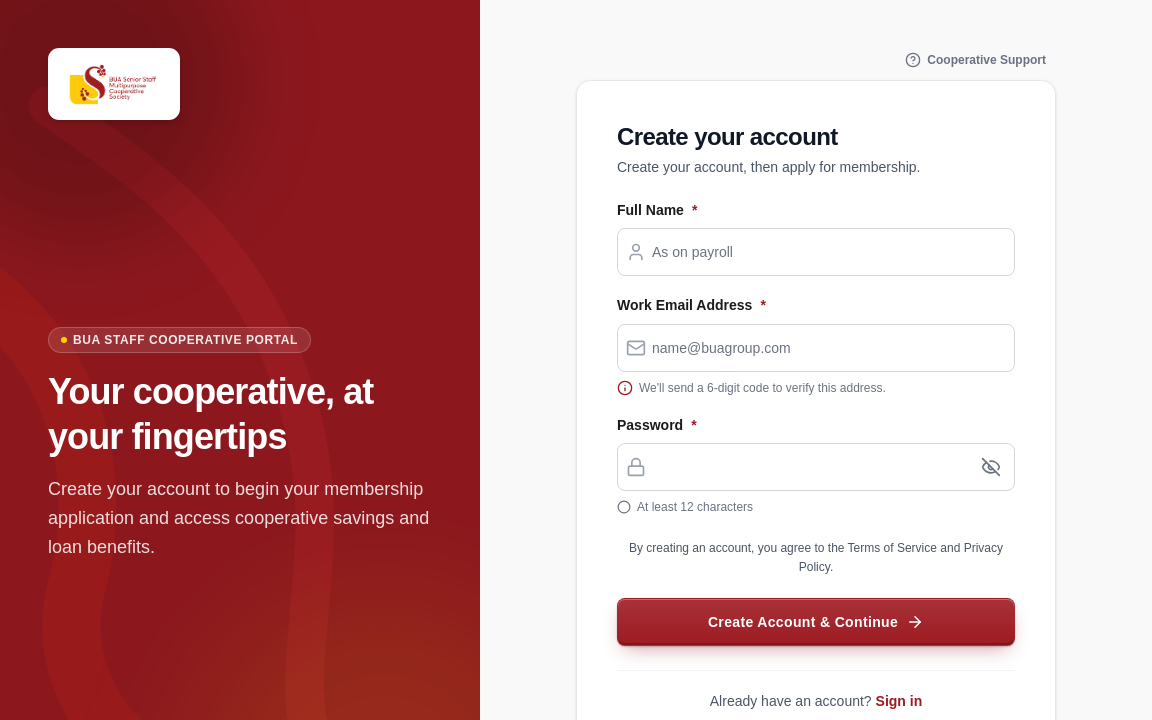
SignupPage › re-checks an errored field as the user types and clears it once valid
Check: the heading "Create your account" is shown, box [617,123,838,150]
Type "nope" into the field labelled "Work Email Address *". click: (830, 348)
box: [646,324,1014,370]
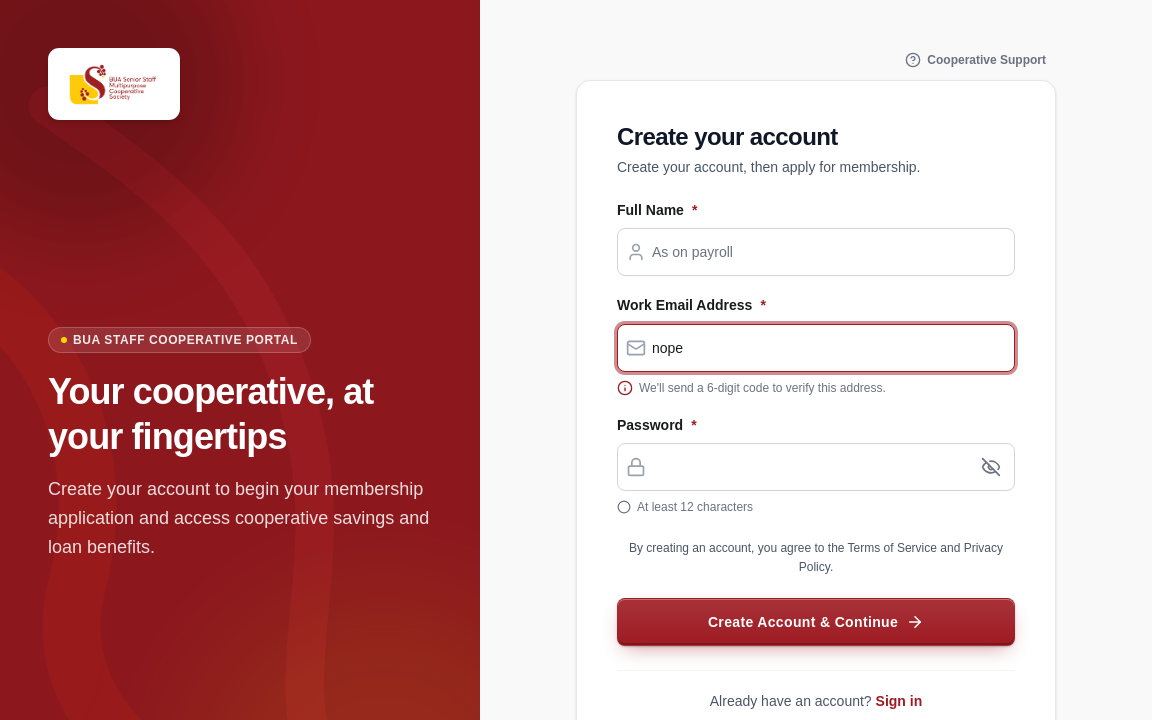
Type "correct horse battery" into the password field labelled "Password *". click: (808, 467)
box: [646,444,971,490]
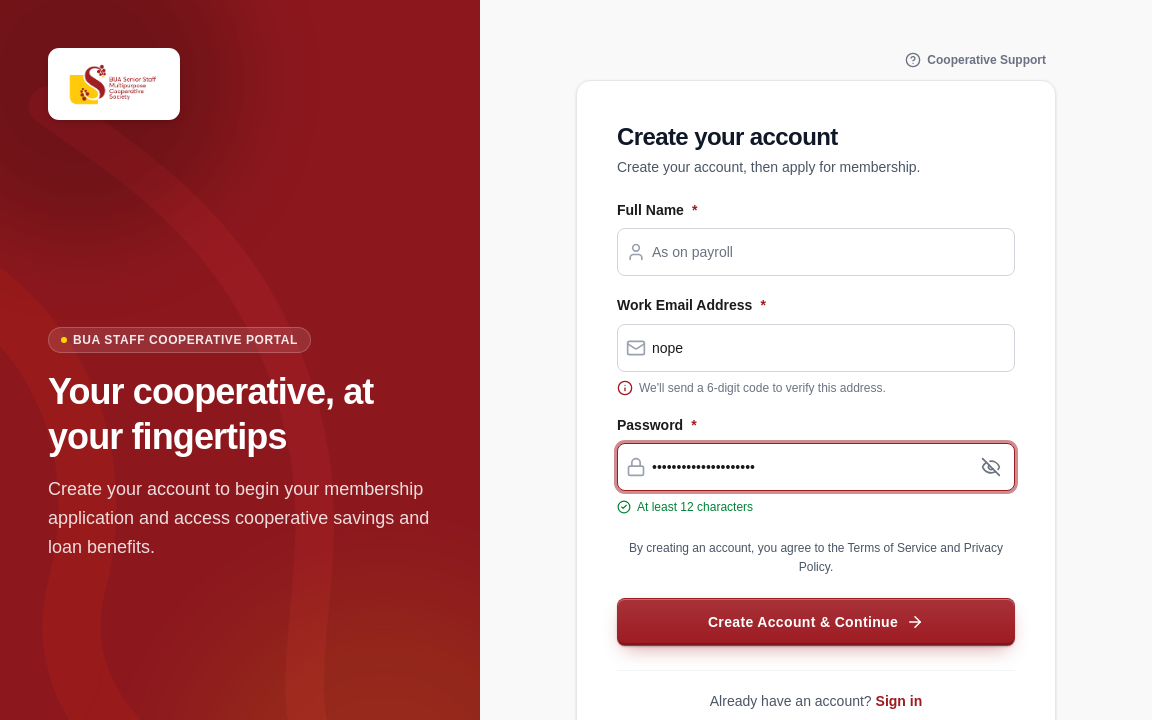
Click the button "Create Account & Continue". click: (816, 622)
box: [617,598,1015,646]
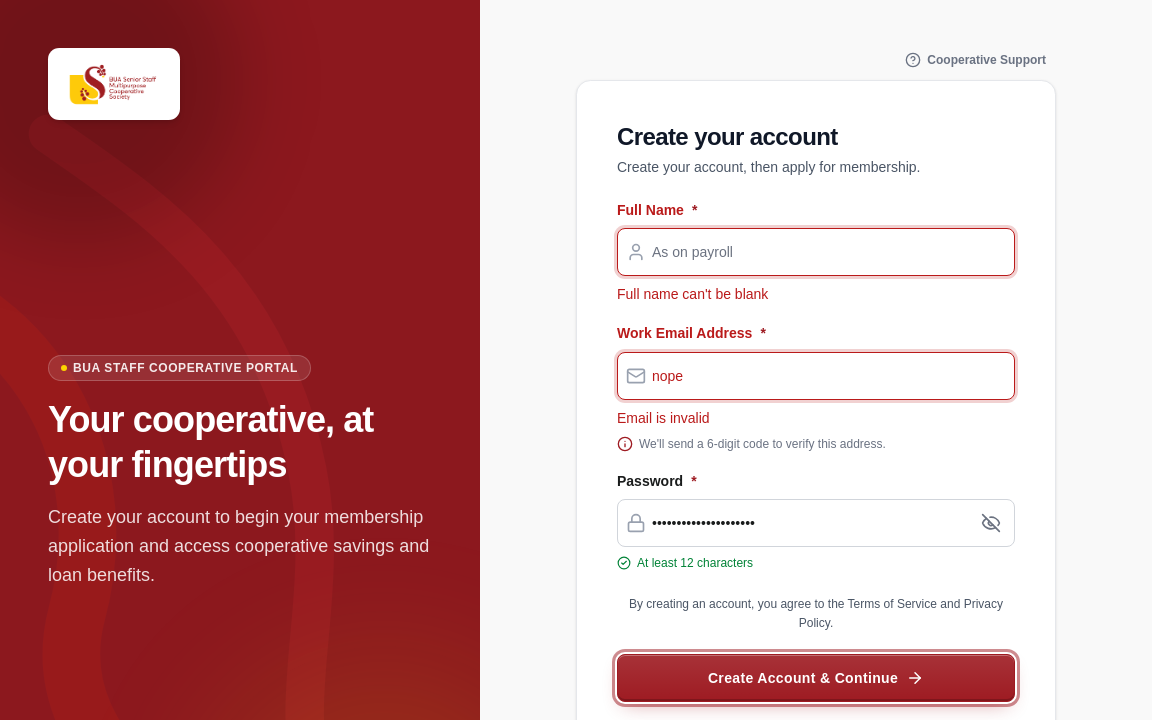
Type "@example.com" into the field labelled "Work Email Address *". click: (830, 376)
box: [646,352,1014,398]
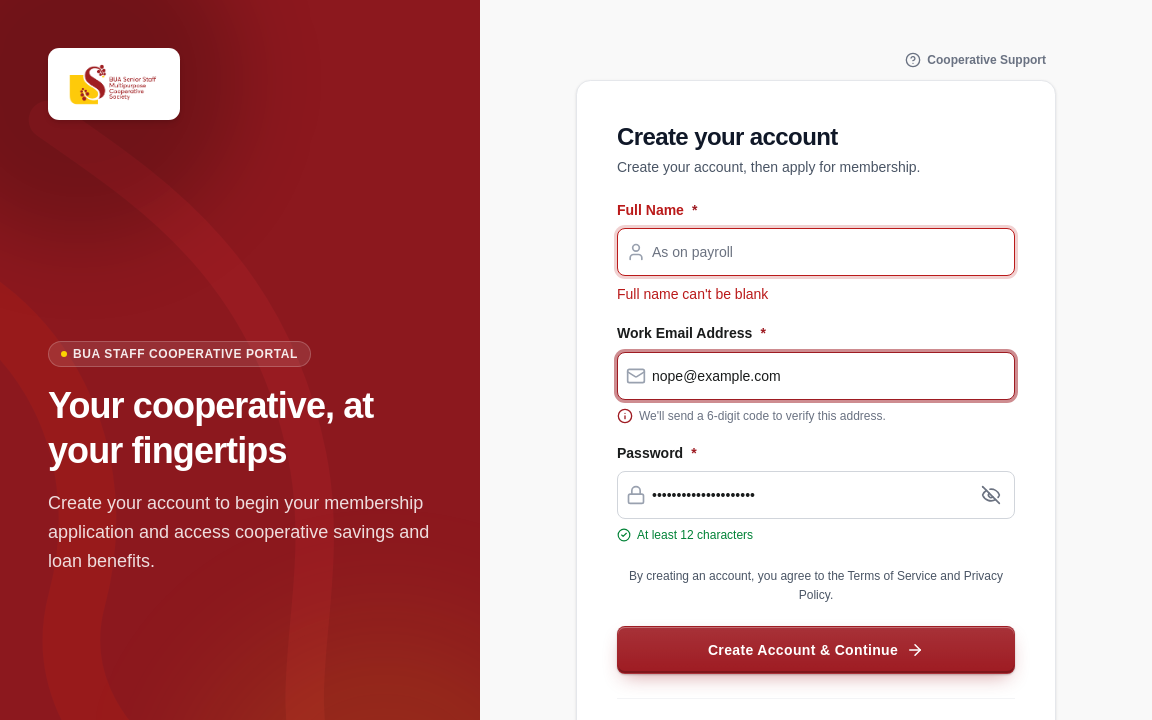
Check: the text "Full name can't be blank" is shown, box [617,286,768,302]
Check: the text "Email is invalid" is gone
Type "Ada" into the field labelled "Full Name *". click: (830, 252)
box: [646,229,1014,275]
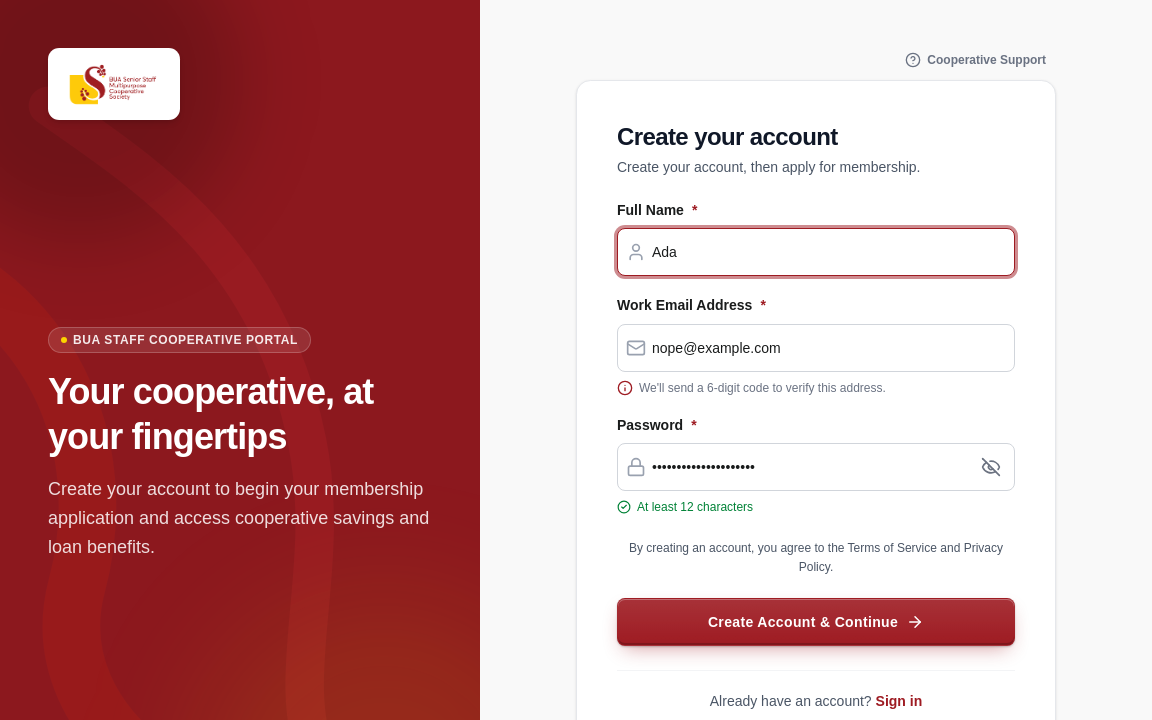
Check: the text "Full name can't be blank" is gone
